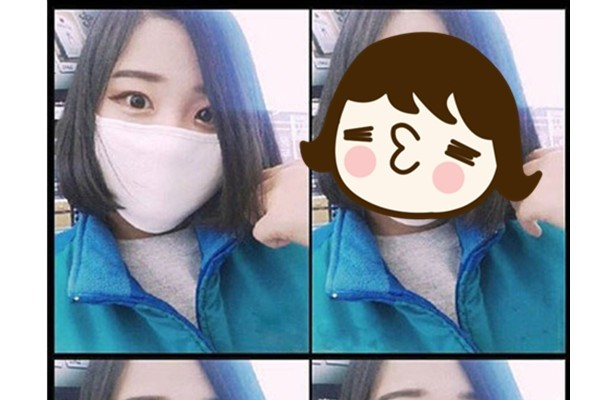face_mask: (91, 19, 233, 235)
